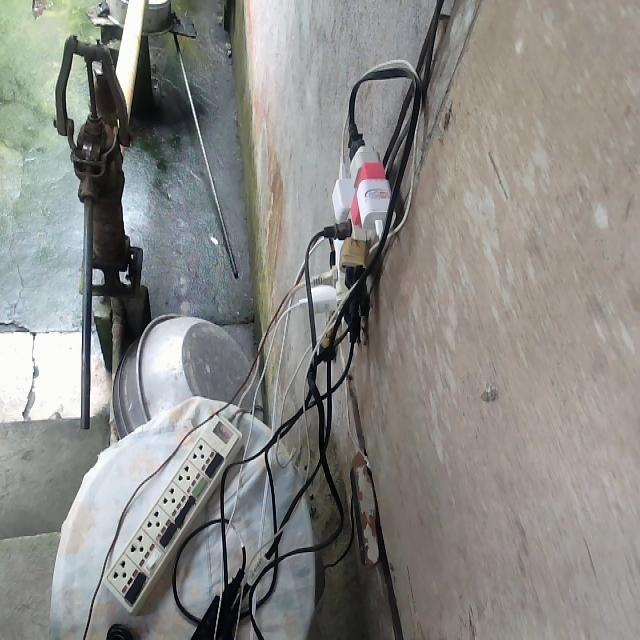-: (300, 117, 400, 348)
